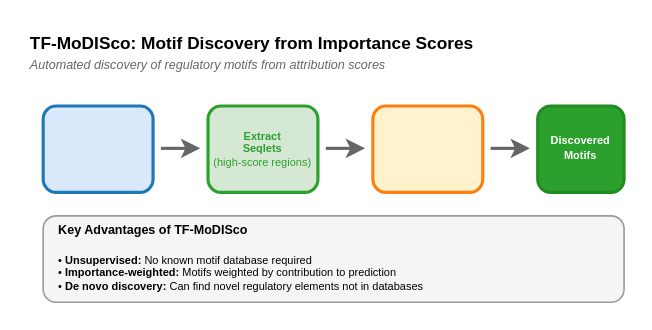
This 652x330 diagram has some shape labels left out. Each missing label, with the centre of its shape:
"Attribution Scores (DeepLIFT, ISM)" goes at point 97,148.
"Cluster Seqlets (similarity-based)" goes at point 427,148.
